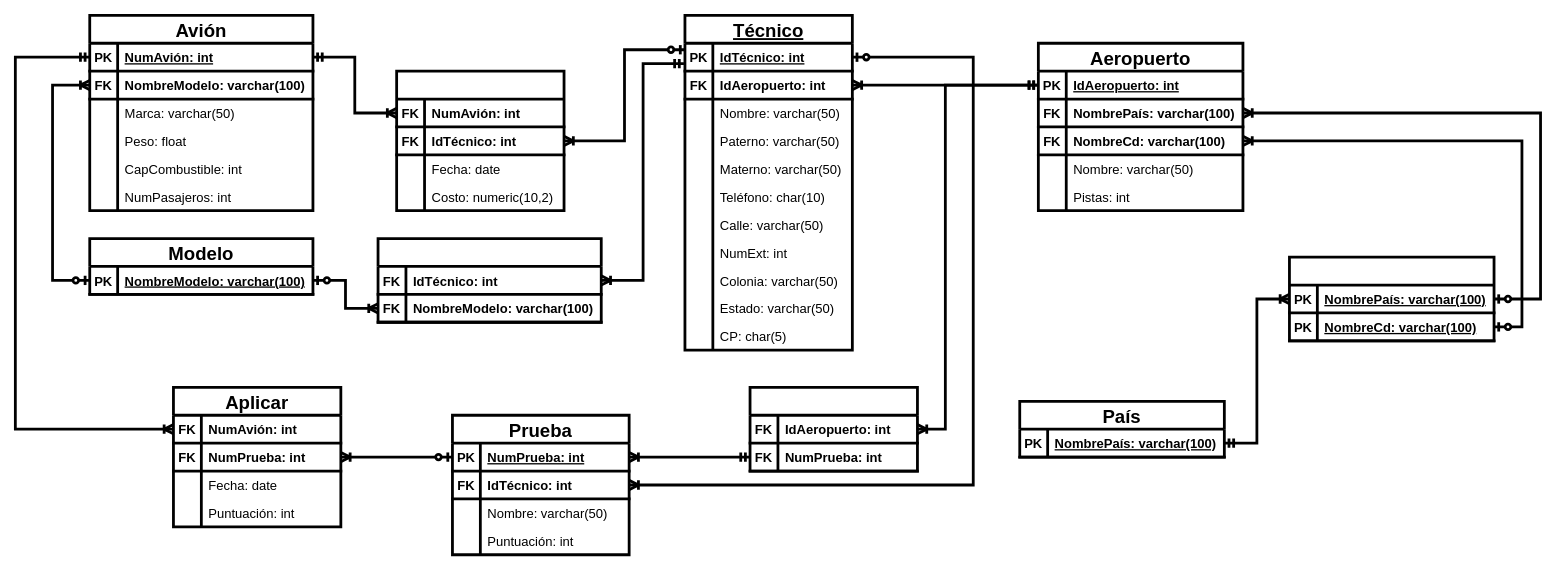
Image size: 1556x570. Some labels were removed from this diagram. Here are the shapes that lost their labels. From the top down, the box of each, then its label:
(395, 69, 565, 212): Reparar
(376, 237, 602, 323): Especializar
(1288, 255, 1495, 342): Ciudad
(748, 385, 918, 472): Tener
